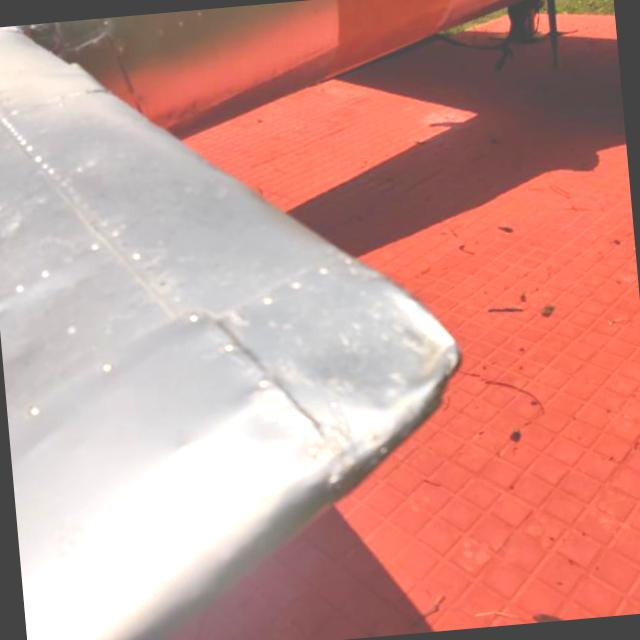dent: (306, 255, 494, 428)
